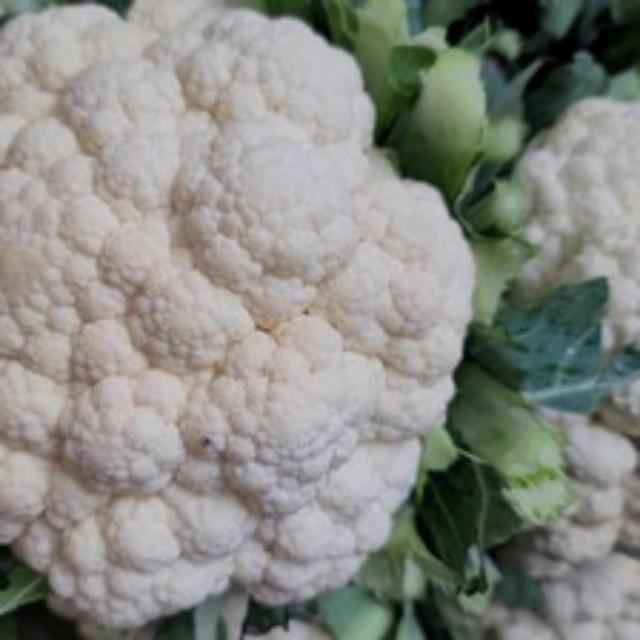cauliflower: (0, 0, 494, 637)
